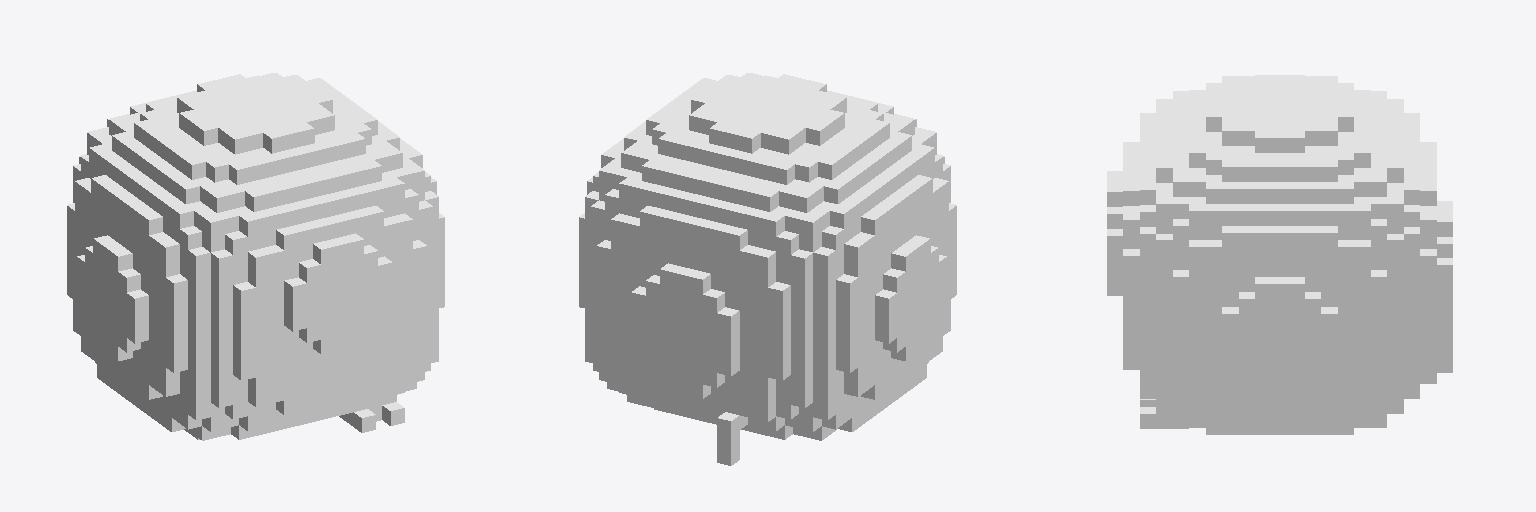
The model's file is PookaInflate3Cardinal.obj.
3 views of the same model, side by side, from view 1: azimuth 30°, elevation 25°; view 2: azimuth 150°, elevation 25°; view 3: azimuth 270°, elevation 25° (orthographic).
Parts seen in each view (by area): view 1: object 1; view 2: object 1; view 3: object 1.
Part boxes in pixels (x1,y1,x2,y2): object 1: (67, 73, 444, 440); object 1: (579, 73, 956, 465); object 1: (1107, 75, 1452, 434).
Size of the model in its own units: 2.1 by 2 by 2.1.